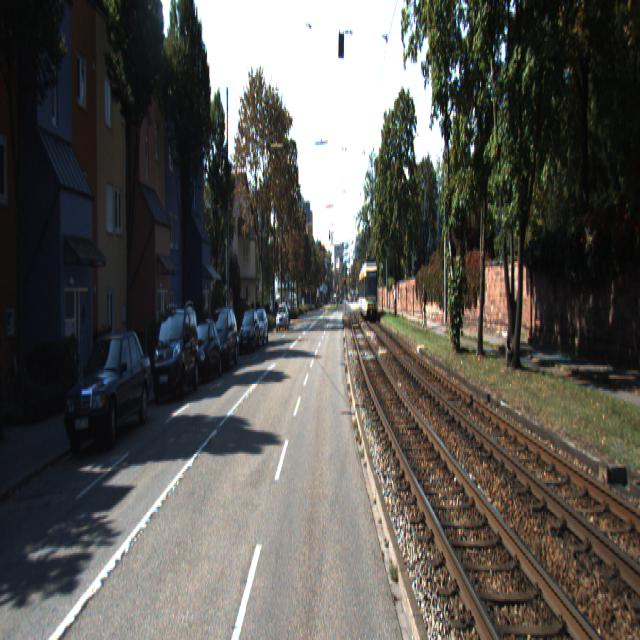Car: (64, 327, 154, 458), (150, 302, 201, 408), (186, 318, 221, 387), (205, 304, 238, 374), (358, 261, 379, 321), (238, 310, 260, 356), (250, 309, 269, 350)
